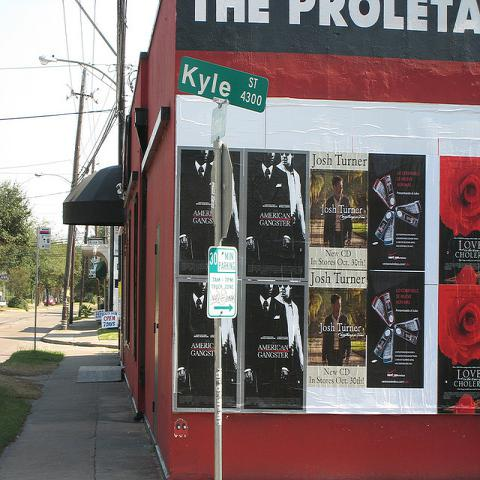car: (44, 296, 55, 306)
